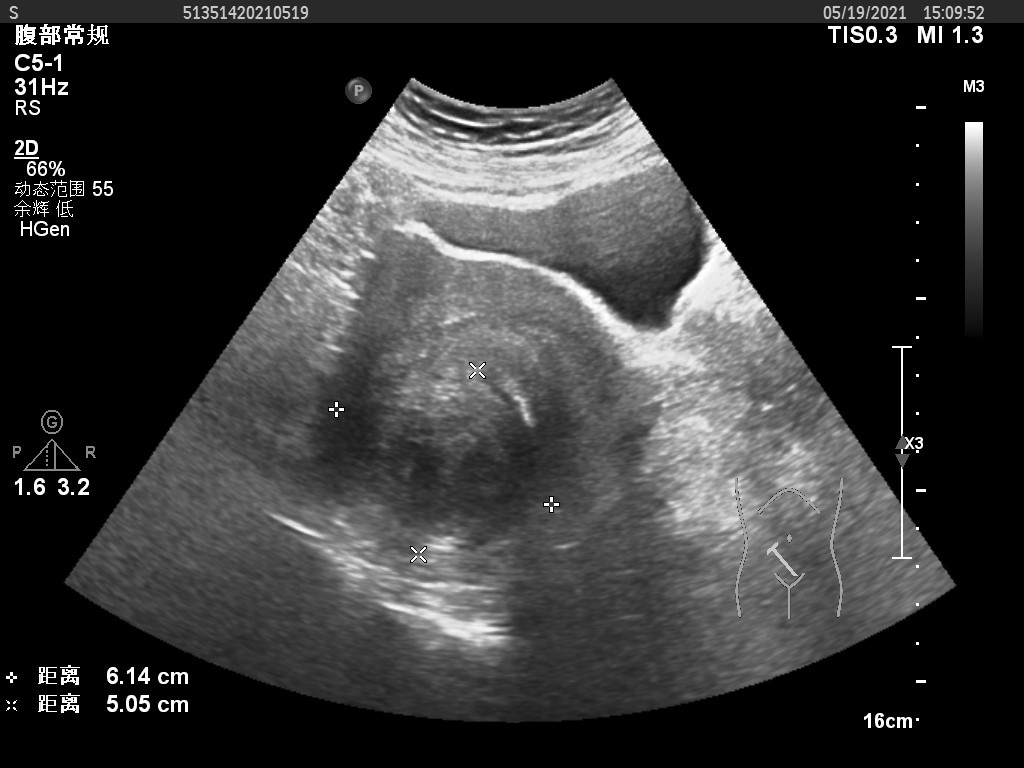肌瘤: (340, 347, 552, 547)
